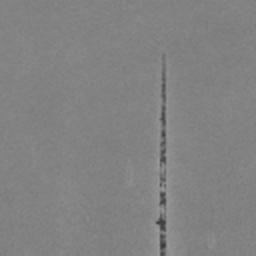Slag inclusion: (156, 215, 166, 256), (160, 104, 166, 164), (161, 71, 166, 102), (160, 192, 166, 206)
